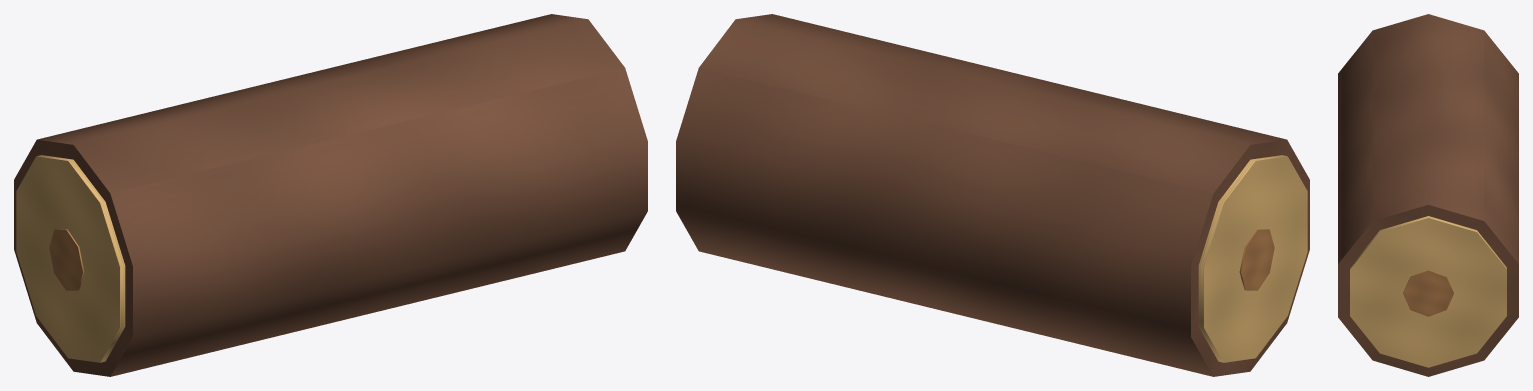
The model's file is log.glb.
3 renders of one model, left to right at view 1: azimuth 30°, elevation 25°; view 2: azimuth 150°, elevation 25°; view 3: azimuth 270°, elevation 25°, orthographic. The views are drawn at different scales.
Parts seen in each view (by area): view 1: log-mesh; view 2: log-mesh; view 3: log-mesh.
Boxes of the visible parts, box(x1,y1,x2,y2) form: log-mesh: box(14, 14, 647, 376); log-mesh: box(676, 14, 1309, 376); log-mesh: box(1338, 14, 1518, 376).
Bounding box in the file's own units: 0.782 × 0.32 × 0.3043.
Materials: 1 (1 with a texture image).
